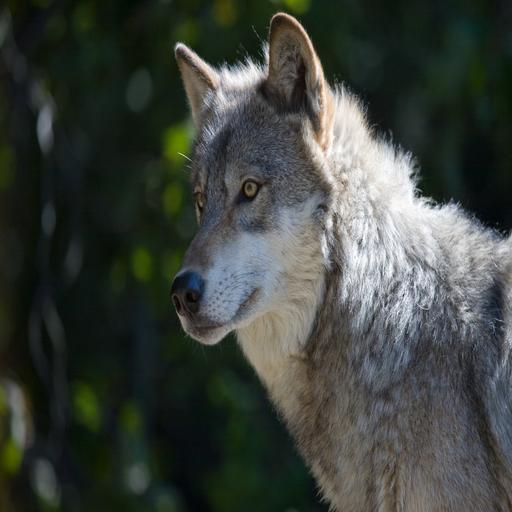Wolf: (154, 9, 512, 512)
